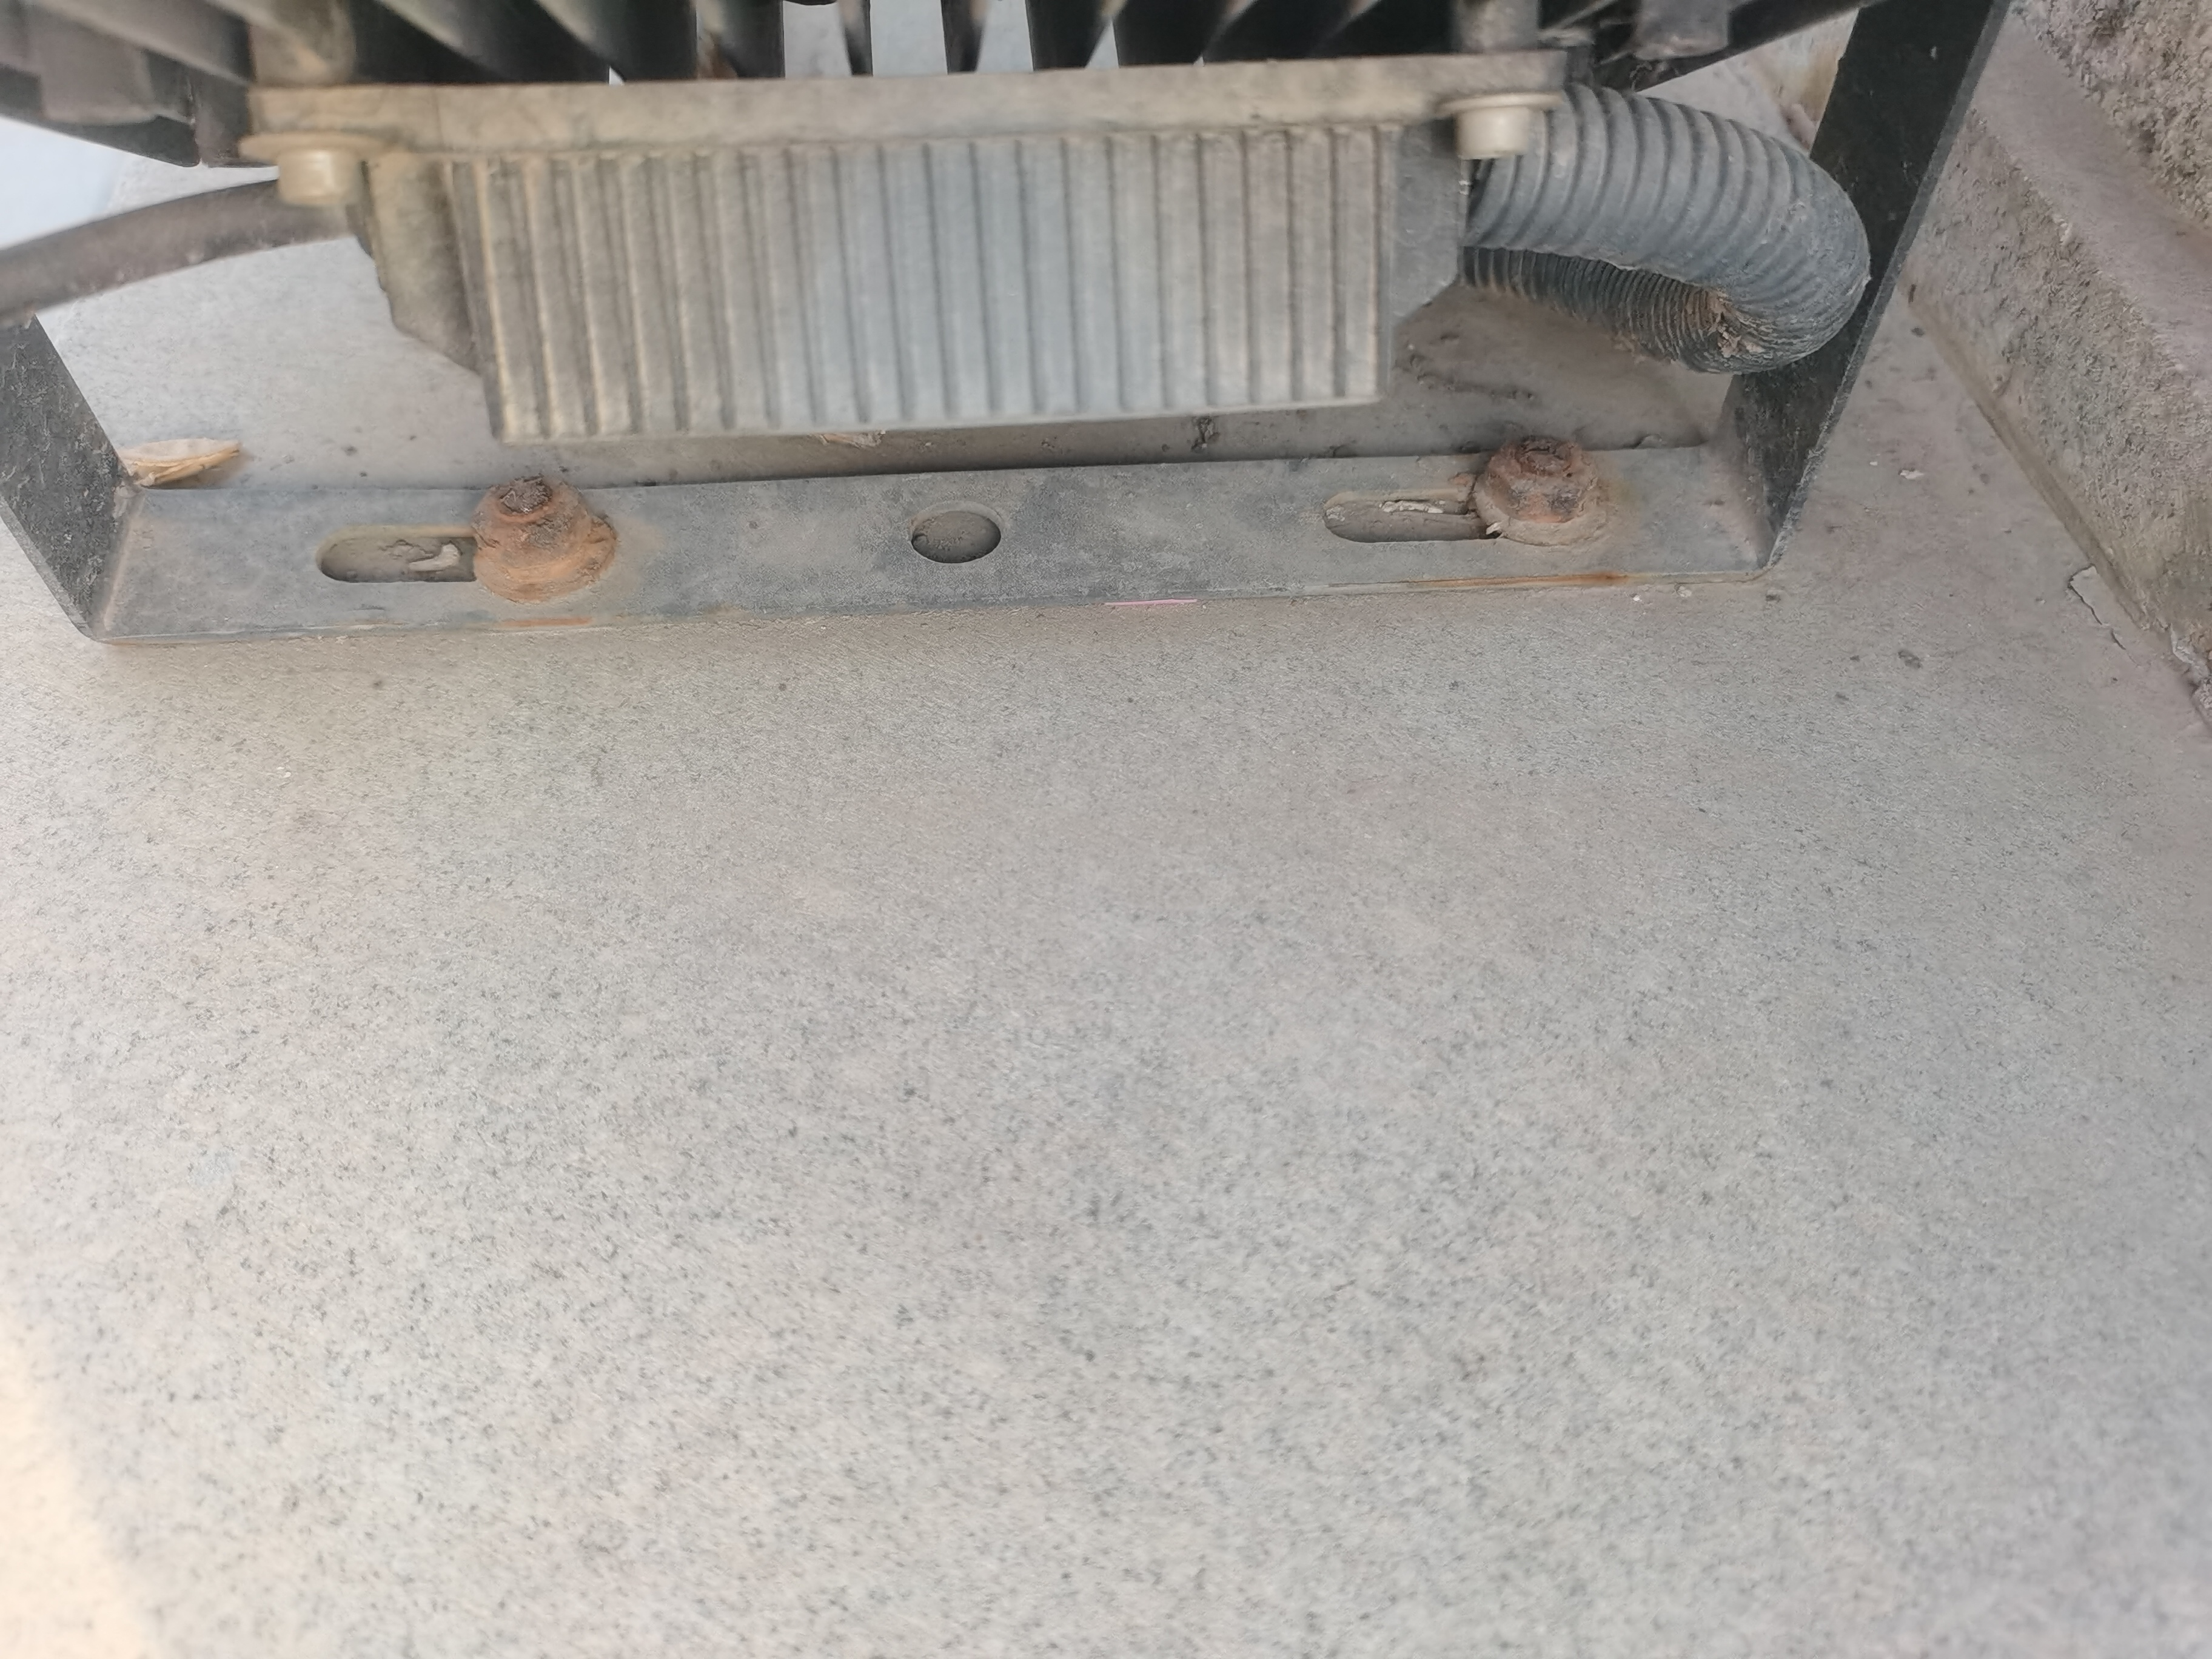bolt_b: (1475, 425, 1608, 530), (469, 472, 599, 572)
